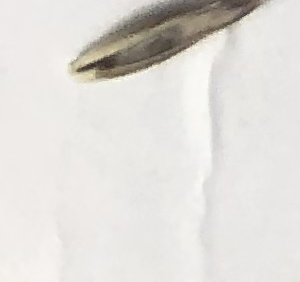Add a new class...: (65, 0, 267, 82)
